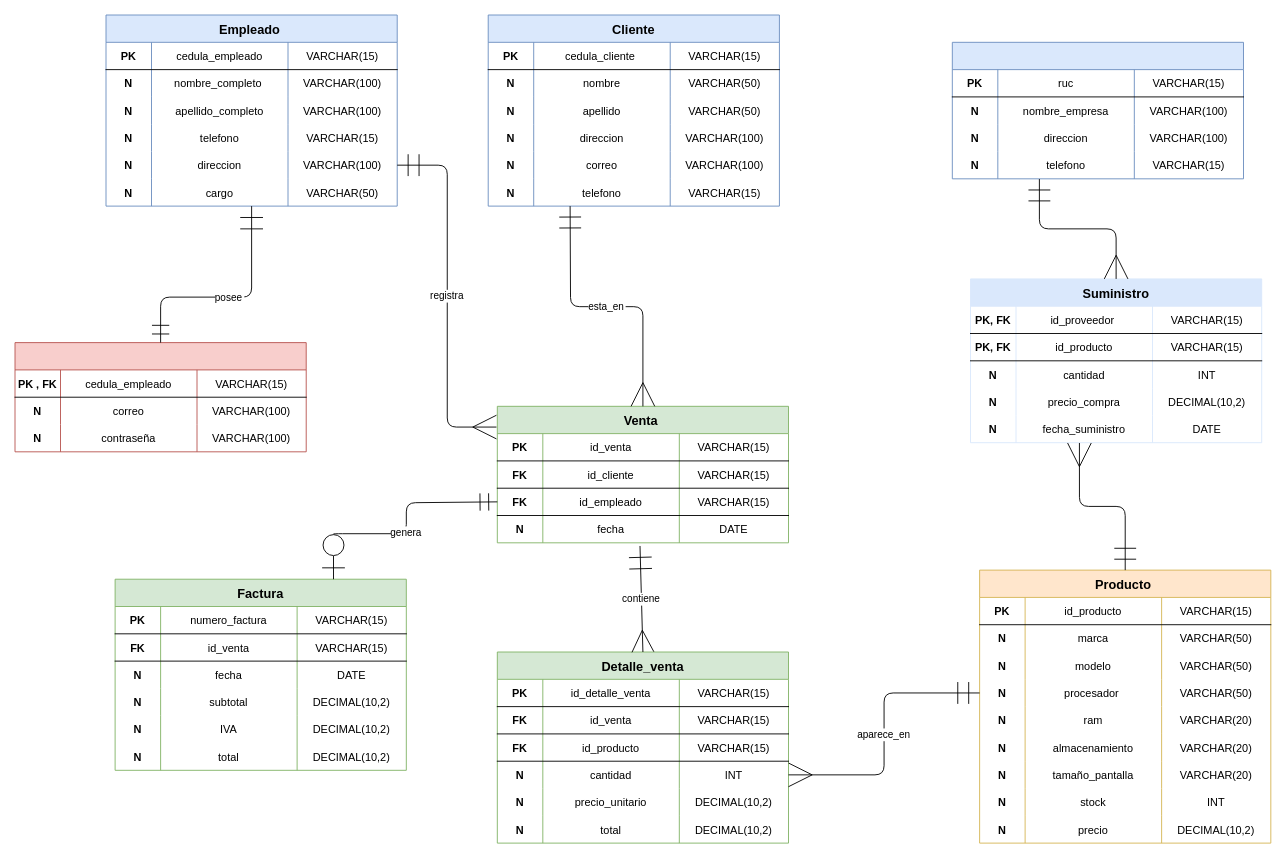
Some shapes in this 1286 by 858 pixel diagram are drawn without their labels. Here are the shapes that lost their labels. From the top down, the box of each, then its label:
(951, 41, 1244, 179): Proveedor
(14, 342, 306, 452): Crendencial
